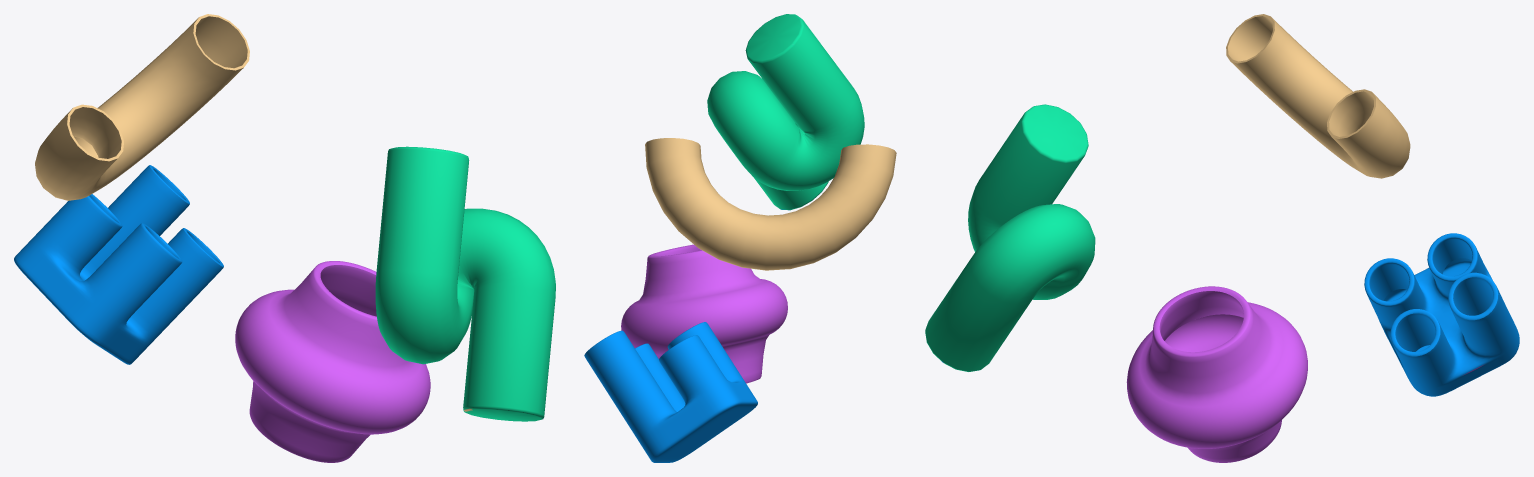
The picture shows the model from 3 angles, left to right: view 1: azimuth 30°, elevation 25°; view 2: azimuth 150°, elevation 25°; view 3: azimuth 270°, elevation 25°; orthographic projection. The views are drawn at different scales.
Visible parts, largest first — view 1: Extruded_Circle, Vase, Tubes, Torus; view 2: Extruded_Circle, Torus, Tubes, Vase; view 3: Extruded_Circle, Vase, Tubes, Torus.
Boxes of the visible parts, <box> form: Extruded_Circle: <box>375,146,555,421</box>; Vase: <box>235,261,430,462</box>; Tubes: <box>14,165,223,364</box>; Torus: <box>35,14,249,200</box>; Extruded_Circle: <box>707,14,864,210</box>; Torus: <box>645,138,896,270</box>; Tubes: <box>584,322,757,462</box>; Vase: <box>621,244,787,383</box>; Extruded_Circle: <box>925,104,1095,371</box>; Vase: <box>1126,286,1307,462</box>; Tubes: <box>1364,233,1519,396</box>; Torus: <box>1226,14,1410,178</box>.
Bounding box in the file's own units: 9.94 × 10.3 × 16.19.
Materials: 1 (1 with a texture image).
